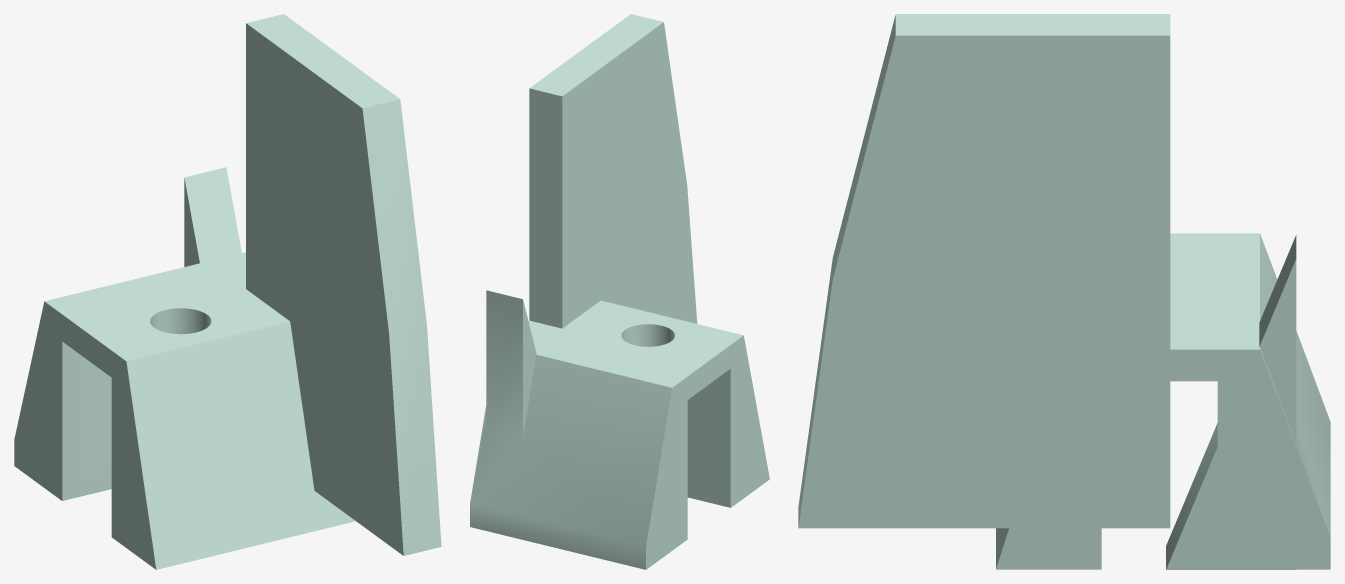
3 views of the same model, side by side, from view 1: azimuth 30°, elevation 25°; view 2: azimuth 150°, elevation 25°; view 3: azimuth 270°, elevation 25° (orthographic). The views are drawn at different scales.
Parts seen in each view (by area): view 1: Renderer Node; view 2: Renderer Node; view 3: Renderer Node.
Part boxes in pixels (x1,y1,x2,y2): Renderer Node: (14,14,441,569); Renderer Node: (470,14,769,569); Renderer Node: (798,14,1330,569).
Size of the model in its own units: 0.75 by 1.62 by 1.45.
